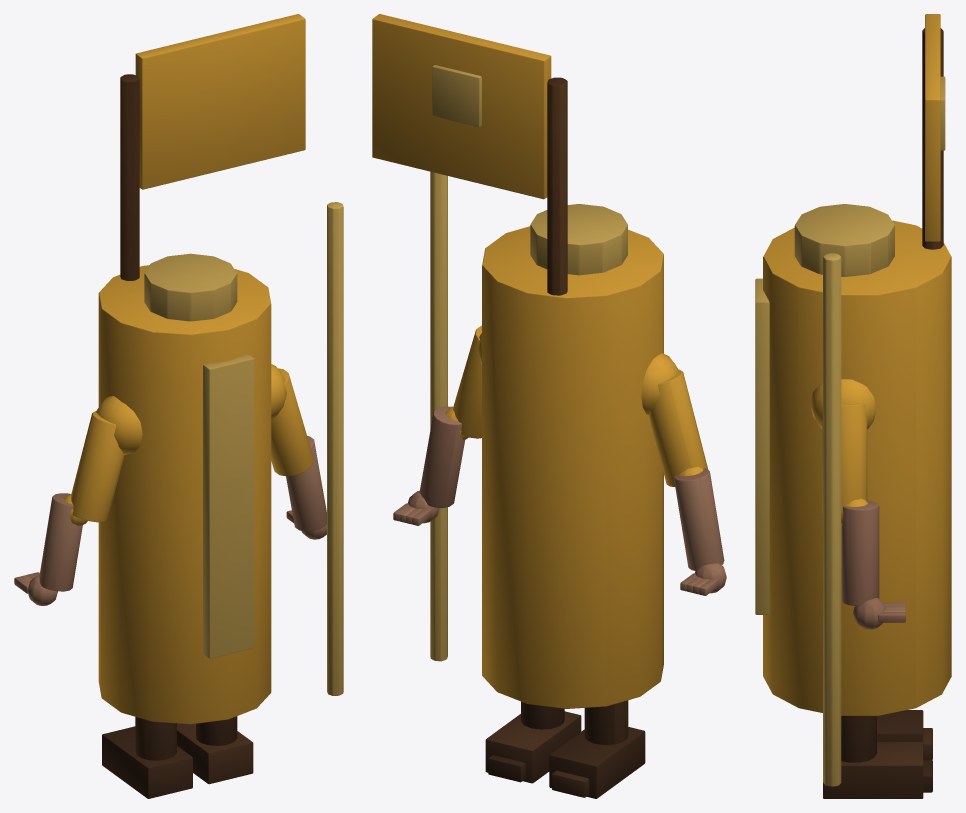
File: unit_church_dawn_herald.fbx
The picture shows the model from 3 angles, left to right: view 1: azimuth 30°, elevation 25°; view 2: azimuth 150°, elevation 25°; view 3: azimuth 270°, elevation 25°; orthographic projection. The views are drawn at different scales.
Parts seen in each view (by area): view 1: unit_church_dawn_herald; view 2: unit_church_dawn_herald; view 3: unit_church_dawn_herald.
Part boxes in pixels (box(x1,y1,x2,y2)): unit_church_dawn_herald: box(14, 14, 343, 798); unit_church_dawn_herald: box(372, 14, 726, 798); unit_church_dawn_herald: box(755, 14, 951, 798).
Bounding box in the file's own units: 1.2 × 2.64 × 0.625.
